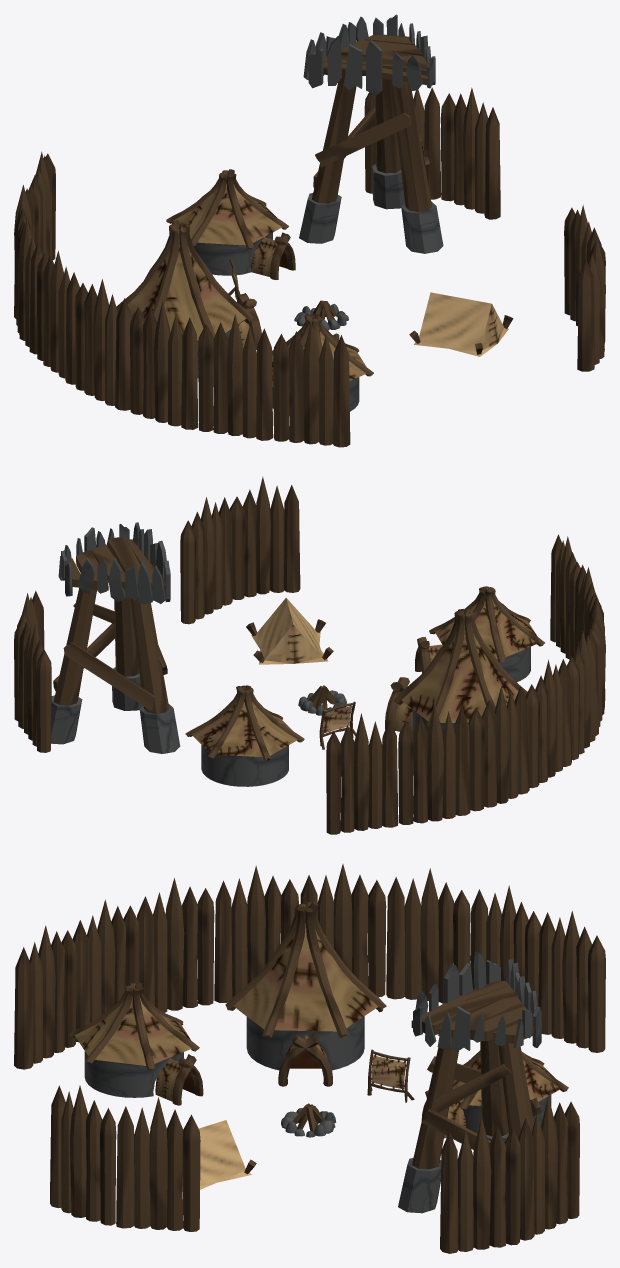
The model's file is Town.fbx.
The picture shows the model from 3 angles, top to bottom: view 1: azimuth 30°, elevation 25°; view 2: azimuth 150°, elevation 25°; view 3: azimuth 270°, elevation 25°; orthographic projection. The views are drawn at different scales.
Visible parts, largest first — view 1: Campfire.001; view 2: Campfire.001; view 3: Campfire.001.
Boxes of the visible parts, <box> form: Campfire.001: <box>14,14,605,447</box>; Campfire.001: <box>14,476,605,834</box>; Campfire.001: <box>14,864,605,1253</box>.
Bounding box in the file's own units: 1704 × 667 × 1608.
